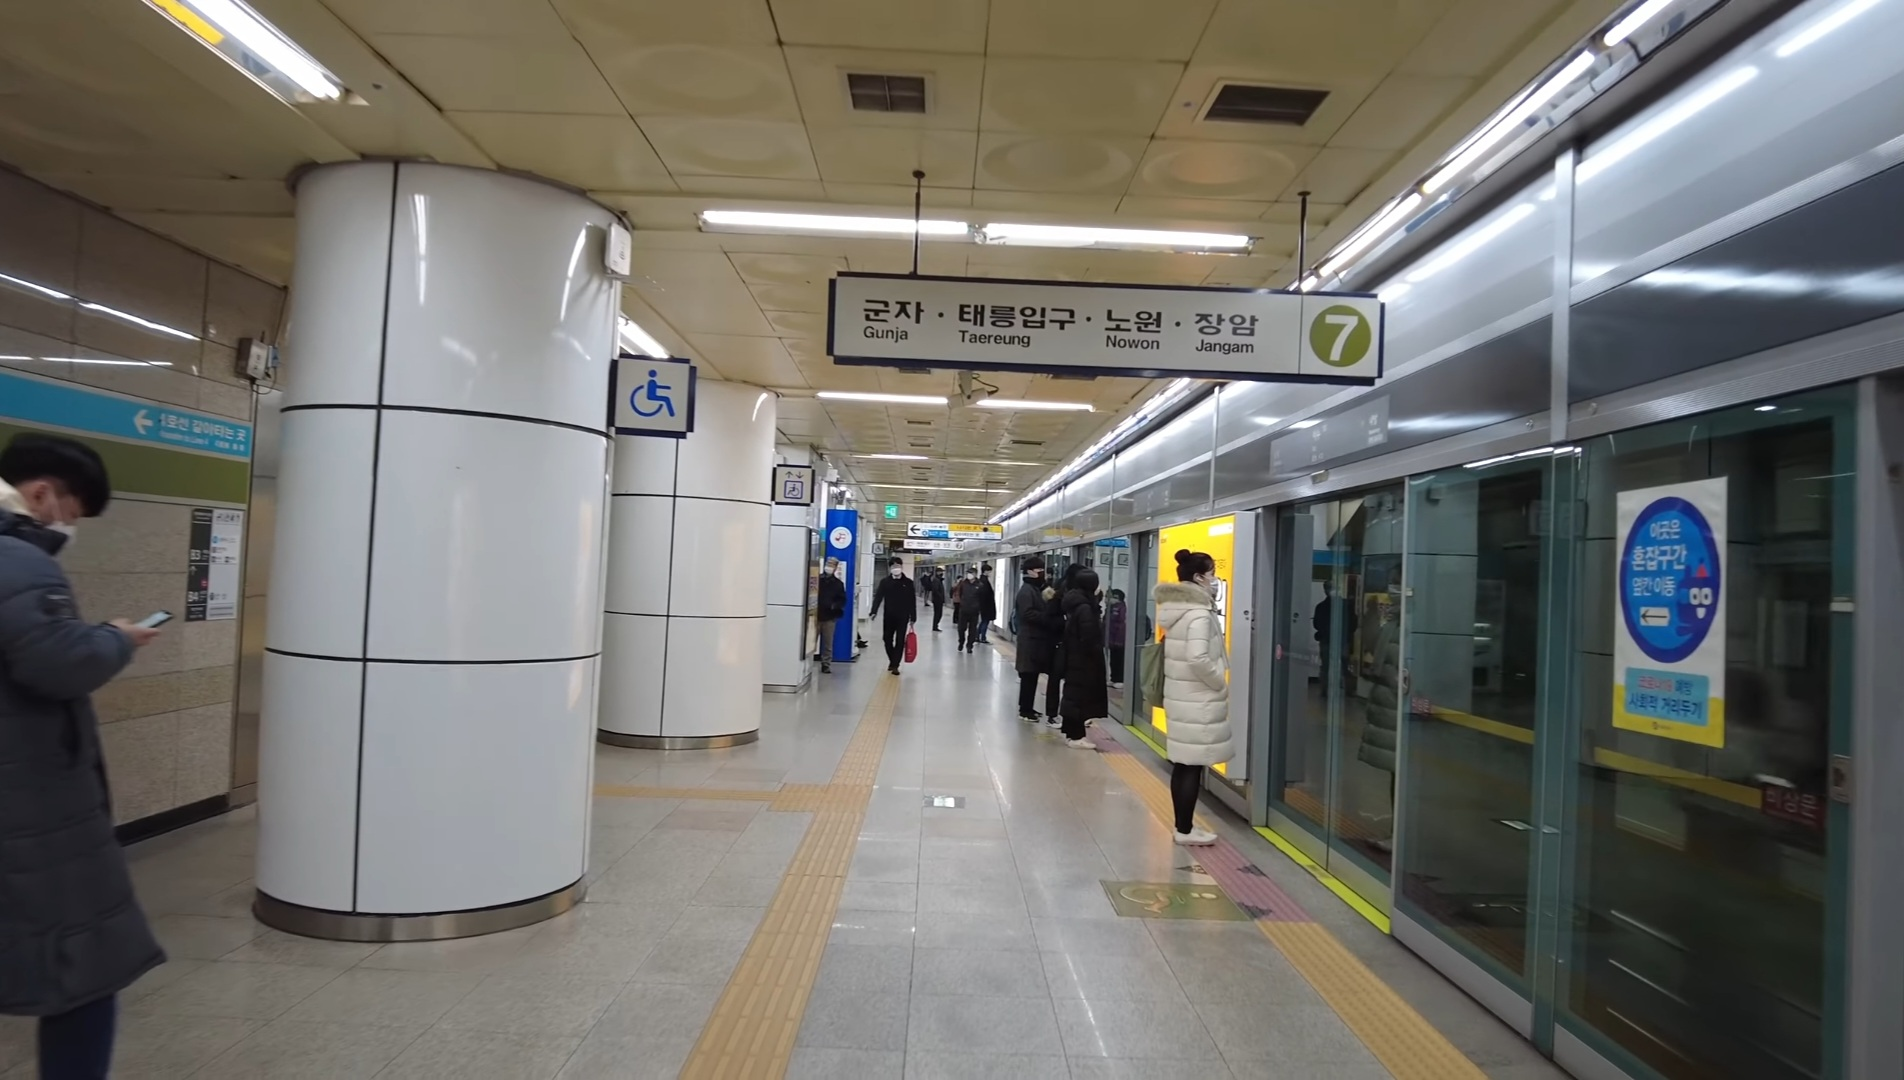signBoard: (824, 271, 1385, 384)
